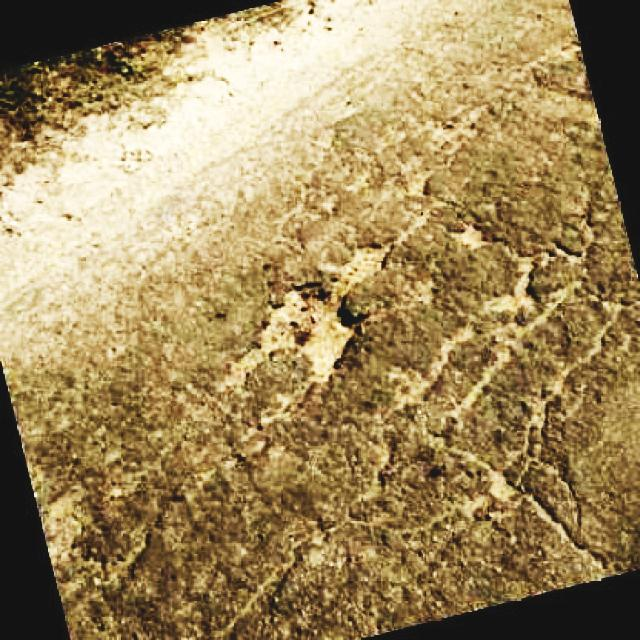pothole: (257, 242, 401, 384), (449, 209, 602, 322)
